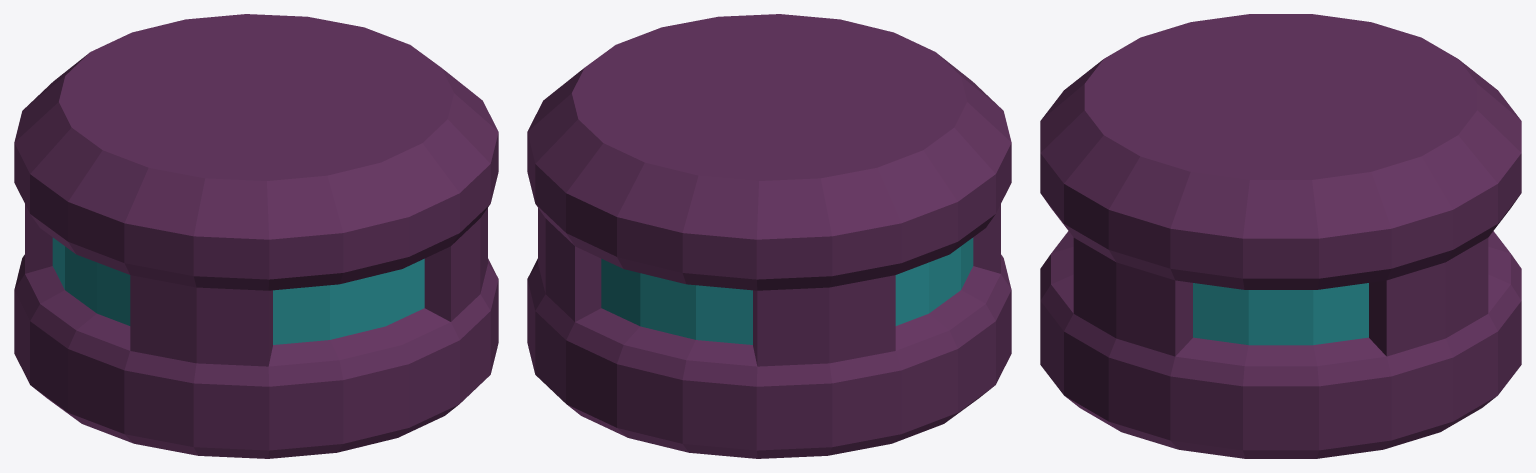
The model's file is Vent.fbx.
3 views of the same model, side by side, from view 1: azimuth 30°, elevation 25°; view 2: azimuth 150°, elevation 25°; view 3: azimuth 270°, elevation 25° (orthographic).
Parts seen in each view (by area): view 1: Vent; view 2: Vent; view 3: Vent.
Boxes of the visible parts, left/top/right/bottom form: Vent: left=14, top=14, right=498, bottom=458; Vent: left=527, top=14, right=1011, bottom=458; Vent: left=1040, top=14, right=1521, bottom=458.
Bounding box in the file's own units: 91.35 × 56.11 × 91.35.
